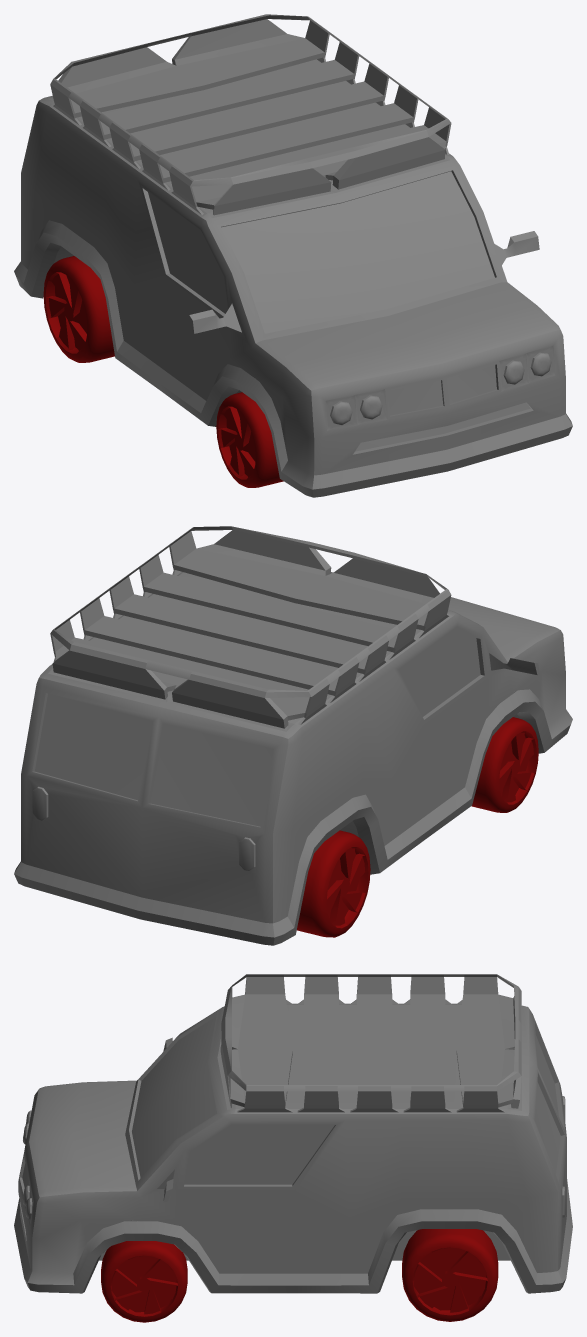
Rendered from SmallVan.fbx.
The picture shows the model from 3 angles, top to bottom: view 1: azimuth 30°, elevation 25°; view 2: azimuth 150°, elevation 25°; view 3: azimuth 270°, elevation 25°; orthographic projection. The views are drawn at different scales.
Visible parts, largest first — view 1: SVBody, SVWheelBR, SVWheelFR; view 2: SVBody, SVWheelBR, SVWheelFR; view 3: SVBody, SVWheelBL, SVWheelFL.
Part boxes in pixels (x1,y1,x2,y2): SVBody: (14,14,572,497); SVWheelBR: (43,256,114,362); SVWheelFR: (216,392,283,487); SVBody: (14,526,572,945); SVWheelBR: (297,830,370,937); SVWheelFR: (471,717,538,812); SVBody: (14,974,572,1293); SVWheelBL: (402,1229,498,1321); SVWheelFL: (101,1241,187,1322).
Size of the model in its own units: 66.88 by 48.75 by 104.
